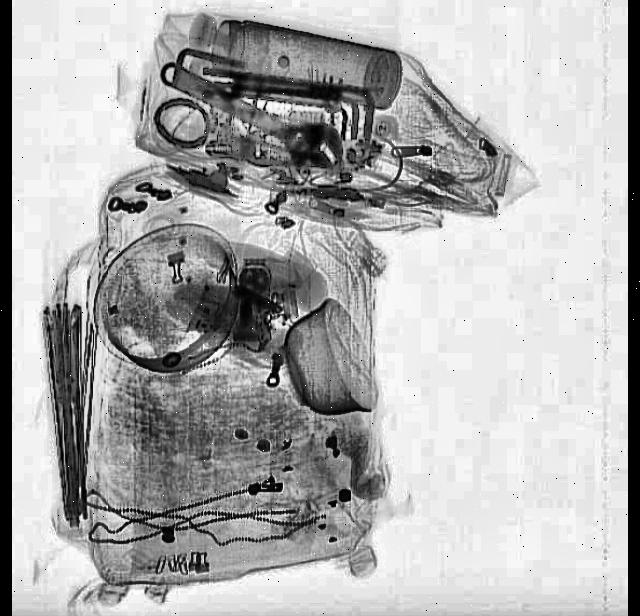Wrench: (152, 44, 354, 188)
